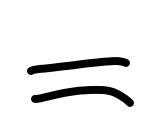eqv: (23, 52, 136, 108)
